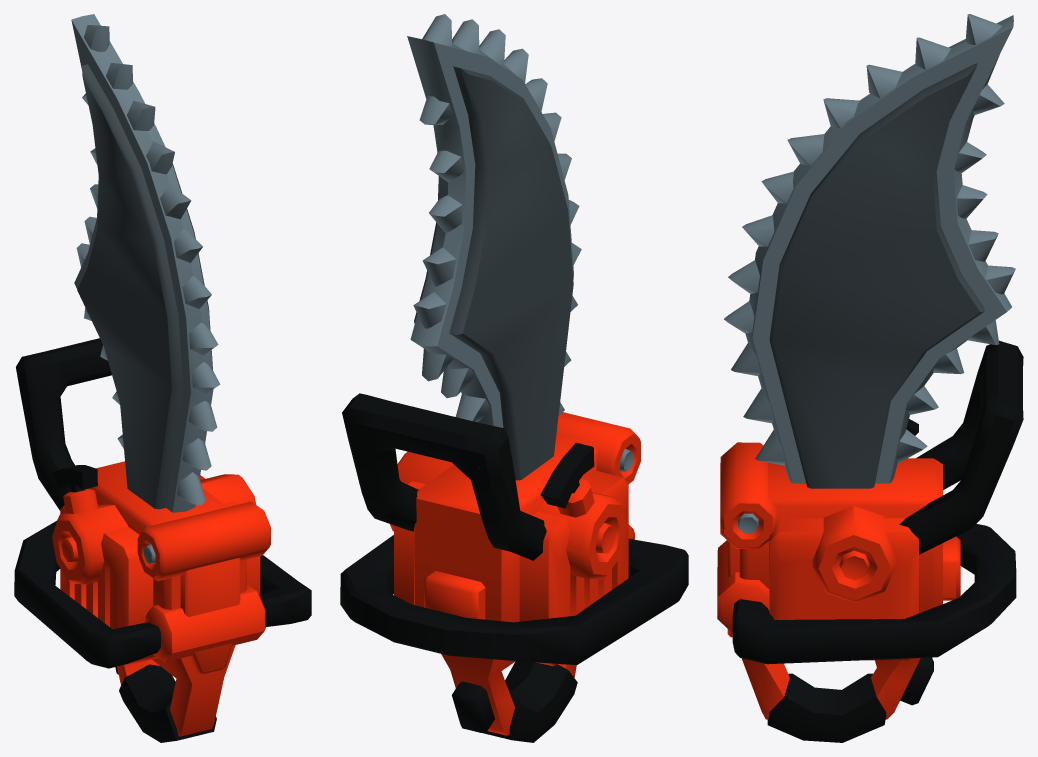
The model's file is chainsword_orange.obj.
3 renders of one model, left to right at view 1: azimuth 30°, elevation 25°; view 2: azimuth 150°, elevation 25°; view 3: azimuth 270°, elevation 25°, orthographic. The views are drawn at different scales.
Visible parts, largest first — view 1: chainsword_orange_Cube.8645; view 2: chainsword_orange_Cube.8645; view 3: chainsword_orange_Cube.8645.
Boxes of the visible parts, x1,y1,x2,y2 form: chainsword_orange_Cube.8645: (14, 14, 311, 742); chainsword_orange_Cube.8645: (340, 14, 688, 742); chainsword_orange_Cube.8645: (717, 14, 1023, 742).
Size of the model in its own units: 0.517 by 1.5 by 0.5804.
